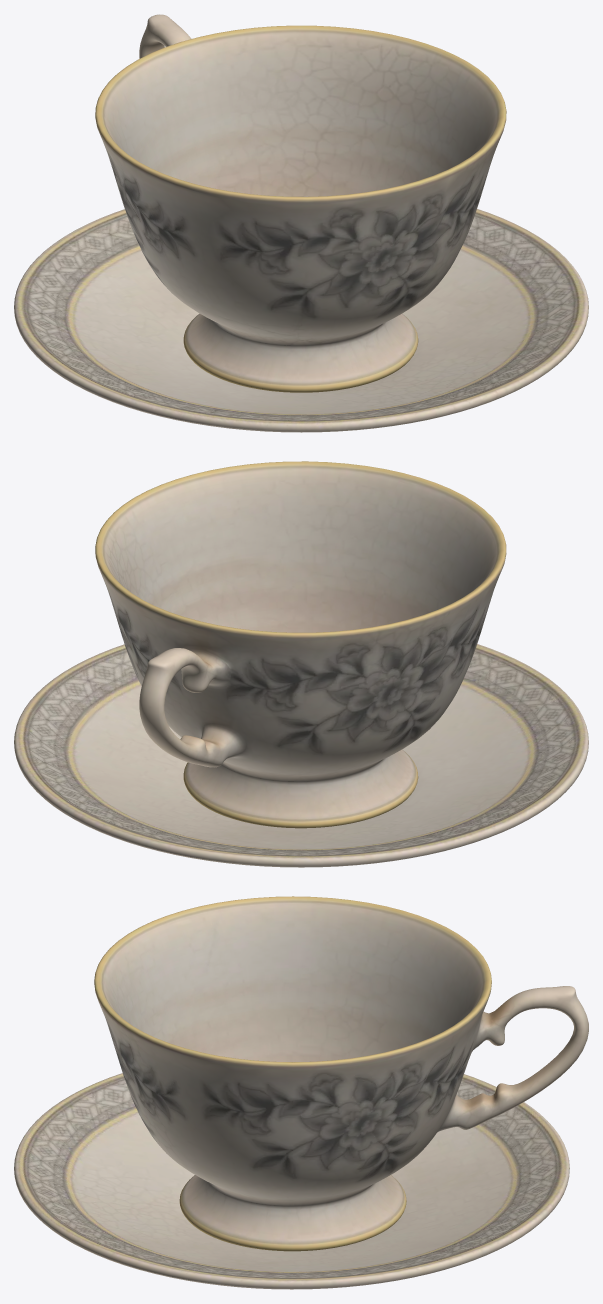
The model's file is kitchen-teacup.glb.
The picture shows the model from 3 angles, top to bottom: view 1: azimuth 30°, elevation 25°; view 2: azimuth 150°, elevation 25°; view 3: azimuth 270°, elevation 25°; orthographic projection. The views are drawn at different scales.
Parts seen in each view (by area): view 1: tea_cup, tea_saucer; view 2: tea_cup, tea_saucer; view 3: tea_cup, tea_saucer.
Part boxes in pixels (<box>): tea_cup: <box>95,14,506,392</box>; tea_saucer: <box>14,209,588,432</box>; tea_cup: <box>95,461,506,828</box>; tea_saucer: <box>14,644,588,867</box>; tea_cup: <box>94,896,588,1251</box>; tea_saucer: <box>14,1073,569,1289</box>.
Size of the model in its own units: 0.1486 by 0.0704 by 0.1537.
2 materials, 2 textured.
